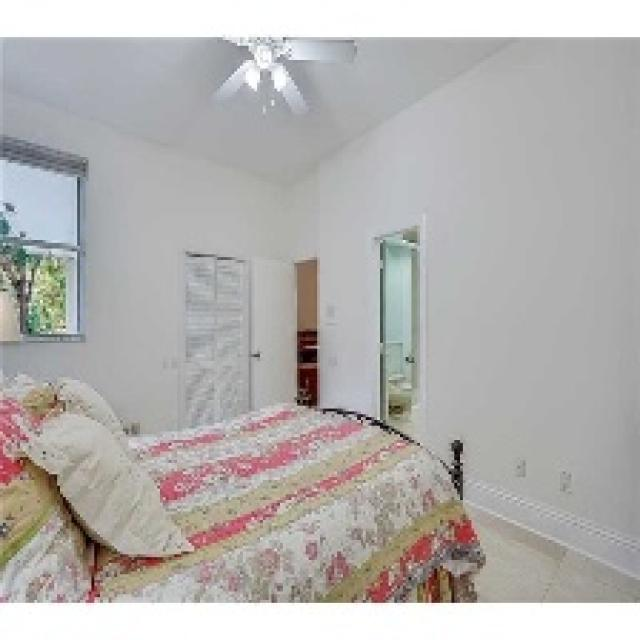Bed: (0, 371, 483, 603)
